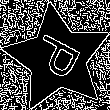P_SE: (27, 30, 88, 86)
